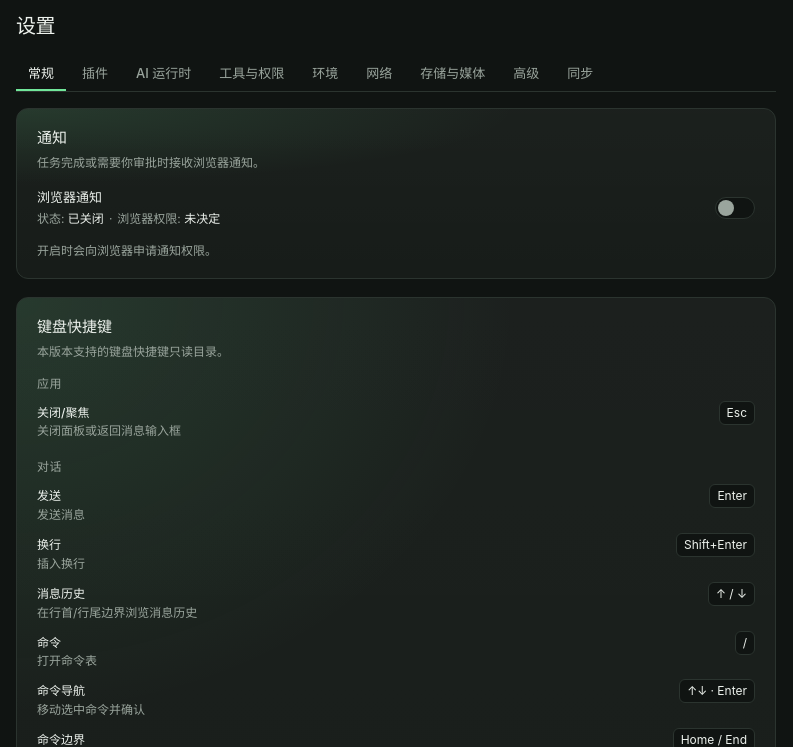
Test case: SettingsPage general tab + notifications › does not fake-enable when the permission request is denied
Click the switch named "浏览器通知" at coordinates (735, 208), box [715,197,755,219]
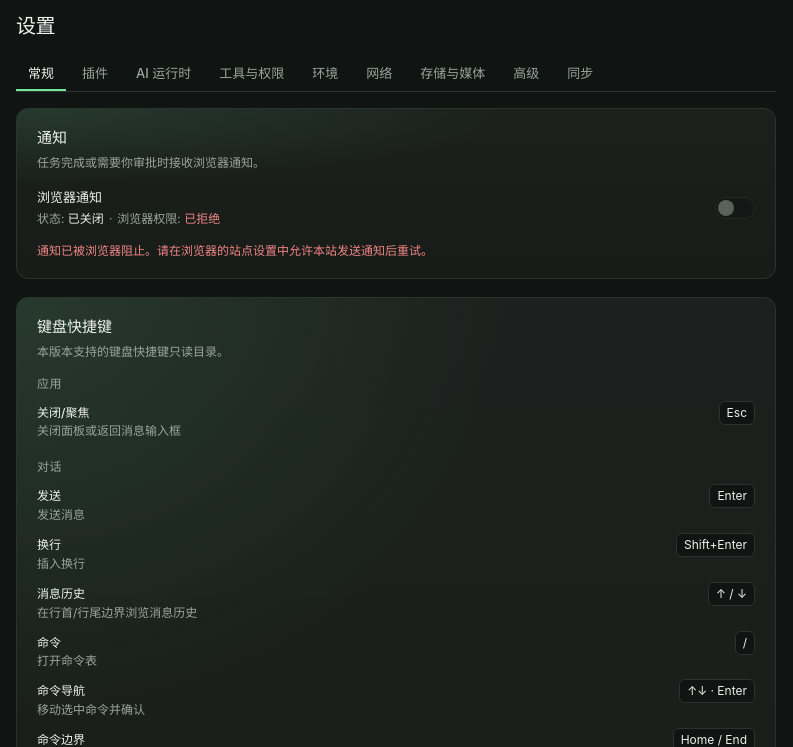
Now the text "已拒绝" is shown, box [184,211,220,226]
Now the text "通知已被浏览器阻止。请在浏览器的站点设置中允许本站发送通知后重试。" is shown, box [37,243,433,258]
Now the switch named "浏览器通知" is disabled, box [715,197,755,219]
